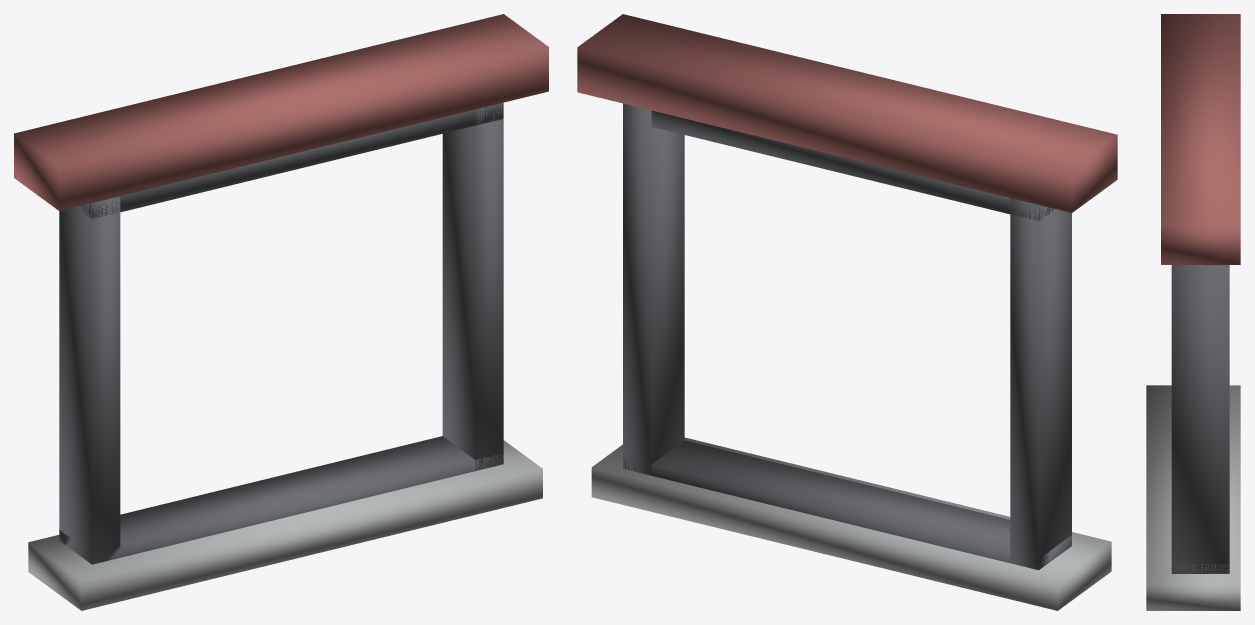
Rendered from egress_window_brick_w100_h90_s88_d16.glb.
The picture shows the model from 3 angles, left to right: view 1: azimuth 30°, elevation 25°; view 2: azimuth 150°, elevation 25°; view 3: azimuth 270°, elevation 25°; orthographic projection. The views are drawn at different scales.
Visible parts, largest first — view 1: world; view 2: world; view 3: world.
Part boxes in pixels (x1,y1,x2,y2): world: (14,14,548,610); world: (577,14,1117,610); world: (1146,14,1240,610).
Size of the model in its own units: 1.38 by 1.19 by 0.26.
